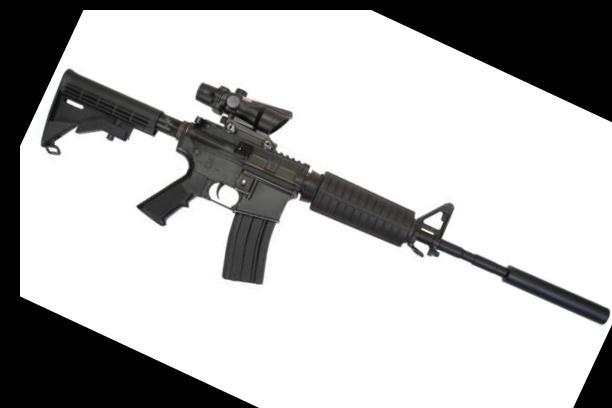larga: (40, 68, 611, 325)
